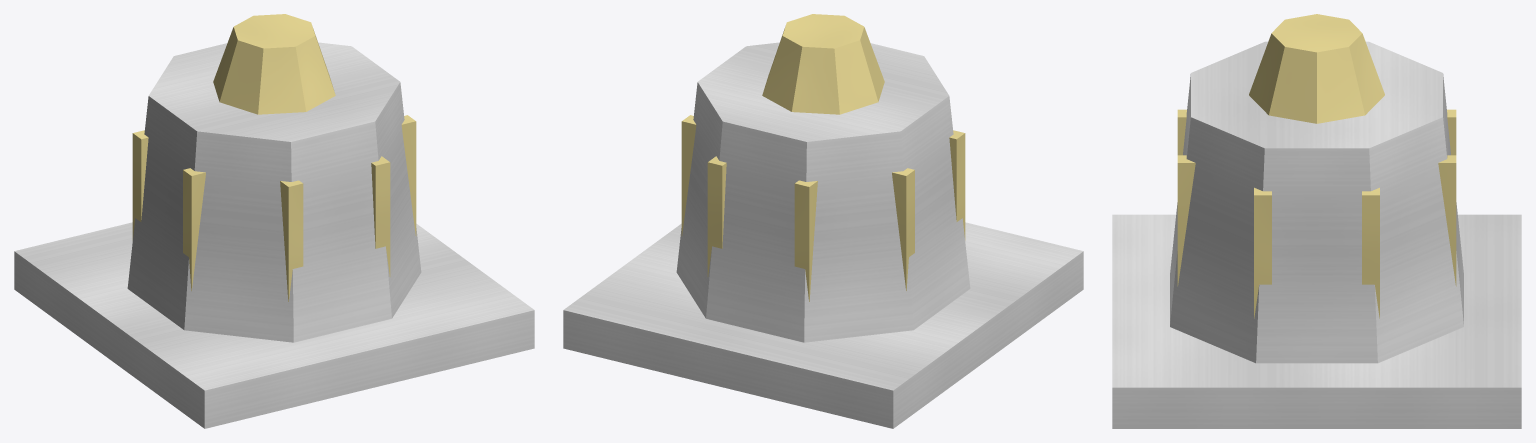
The model's file is ship_computer_core.obj.
3 renders of one model, left to right at view 1: azimuth 30°, elevation 25°; view 2: azimuth 150°, elevation 25°; view 3: azimuth 270°, elevation 25°, orthographic. The views are drawn at different scales.
Visible parts, largest first — view 1: ship_computer_core; view 2: ship_computer_core; view 3: ship_computer_core.
Boxes of the visible parts, x1,y1,x2,y2 form: ship_computer_core: [14, 14, 534, 428]; ship_computer_core: [563, 14, 1083, 428]; ship_computer_core: [1112, 14, 1521, 428].
Size of the model in its own units: 1.8 by 1.5 by 1.8.
